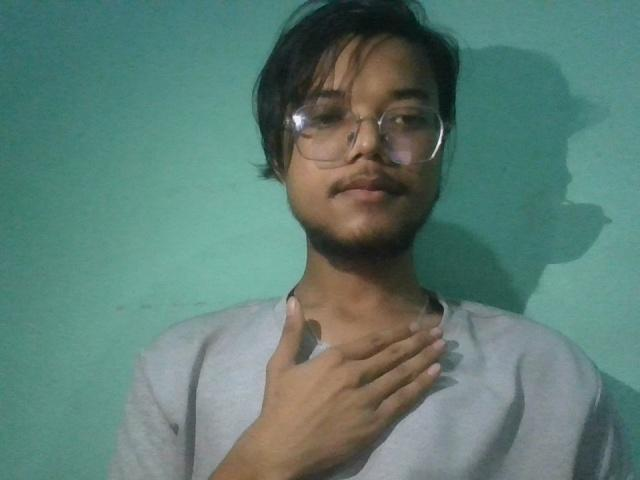Please: (161, 262, 543, 474)
